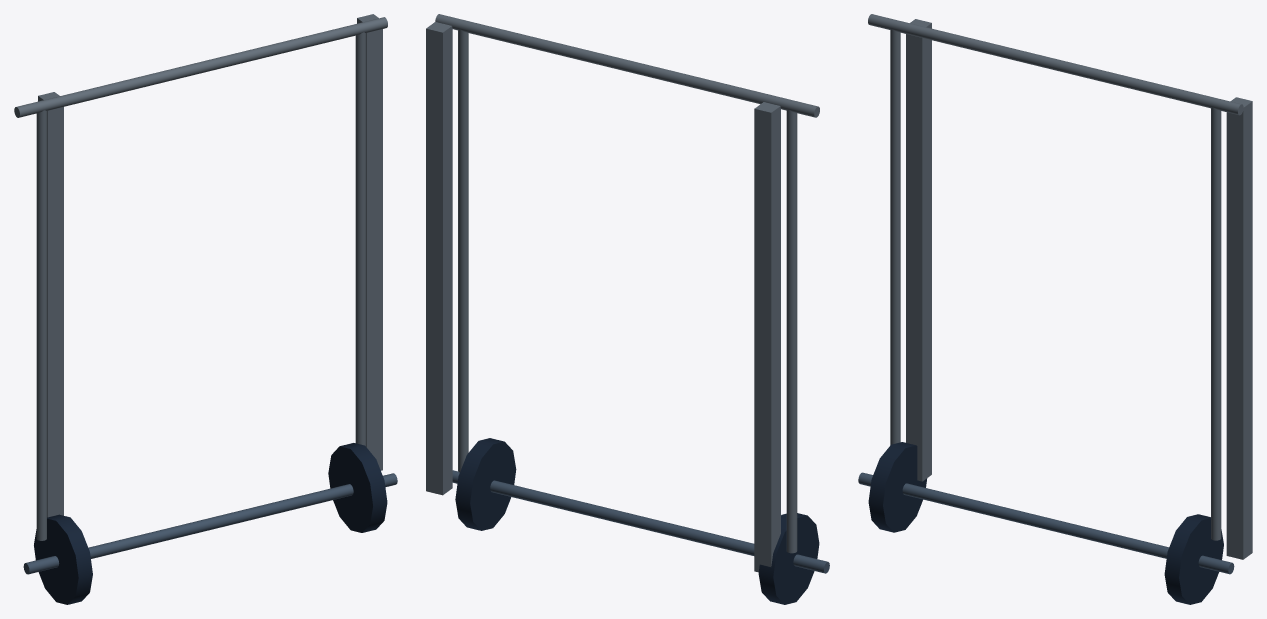
File: smith_machine.glb
The picture shows the model from 3 angles, left to right: view 1: azimuth 30°, elevation 25°; view 2: azimuth 150°, elevation 25°; view 3: azimuth 330°, elevation 25°; orthographic projection. The views are drawn at different scales.
Visible parts, largest first — view 1: smithUpright (×2), smithGuide (×2), barbell_plate (×2), smithCross, barbell; view 2: smithUpright (×2), smithGuide (×2), barbell_plate (×2), smithCross, barbell; view 3: smithUpright (×2), smithGuide (×2), barbell_plate (×2), smithCross, barbell.
Boxes of the visible parts, x1,y1,x2,y2 form: smithUpright (×2): [38, 14, 382, 517]; smithGuide (×2): [36, 32, 365, 540]; barbell_plate (×2): [34, 443, 387, 604]; smithCross: [14, 17, 387, 117]; barbell: [23, 473, 397, 574]; smithUpright (×2): [426, 22, 780, 572]; smithGuide (×2): [458, 29, 797, 553]; barbell_plate (×2): [455, 438, 819, 604]; smithCross: [435, 14, 819, 117]; barbell: [452, 470, 829, 573]; smithUpright (×2): [906, 19, 1252, 559]; smithGuide (×2): [890, 29, 1221, 540]; barbell_plate (×2): [868, 442, 1223, 604]; smithCross: [868, 14, 1243, 115]; barbell: [858, 472, 1234, 574].
Size of the model in its own units: 1.8 by 2.31 by 0.38.
